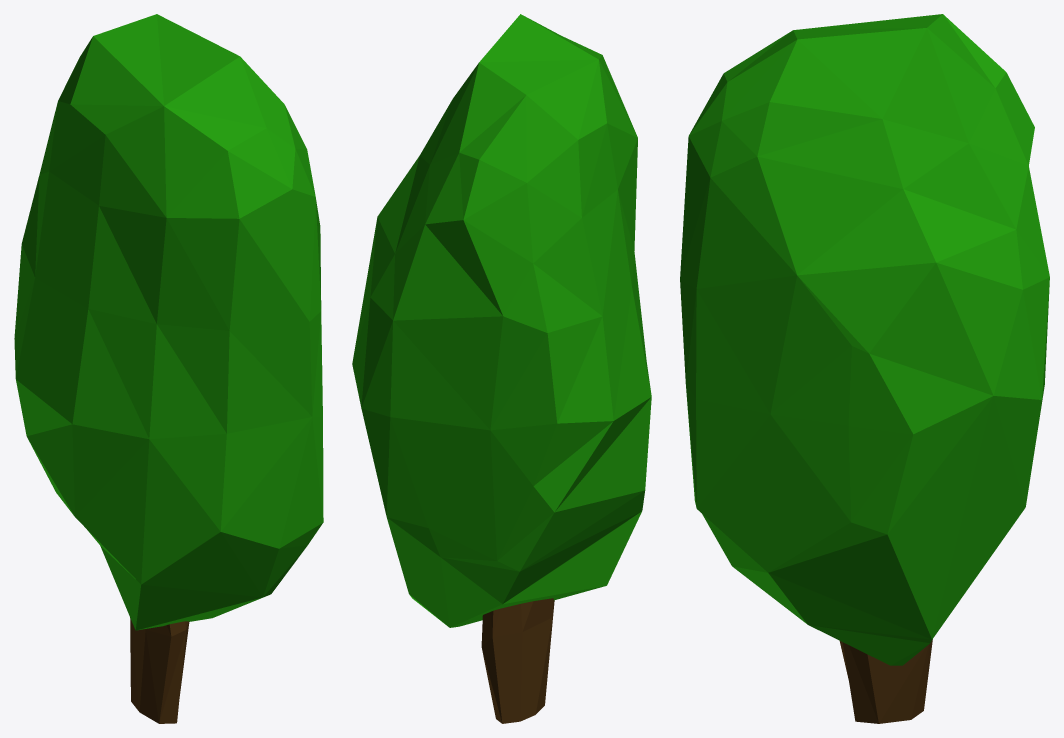
The model's file is tree_3.dae.
3 renders of one model, left to right at view 1: azimuth 30°, elevation 25°; view 2: azimuth 150°, elevation 25°; view 3: azimuth 270°, elevation 25°, orthographic. The views are drawn at different scales.
Parts seen in each view (by area): view 1: tree_3; view 2: tree_3; view 3: tree_3.
Boxes of the visible parts, x1,y1,x2,y2 form: tree_3: (14, 14, 323, 723); tree_3: (352, 14, 651, 723); tree_3: (680, 14, 1049, 723).
Size of the model in its own units: 0.00453 by 0.00541 by 0.0113.
